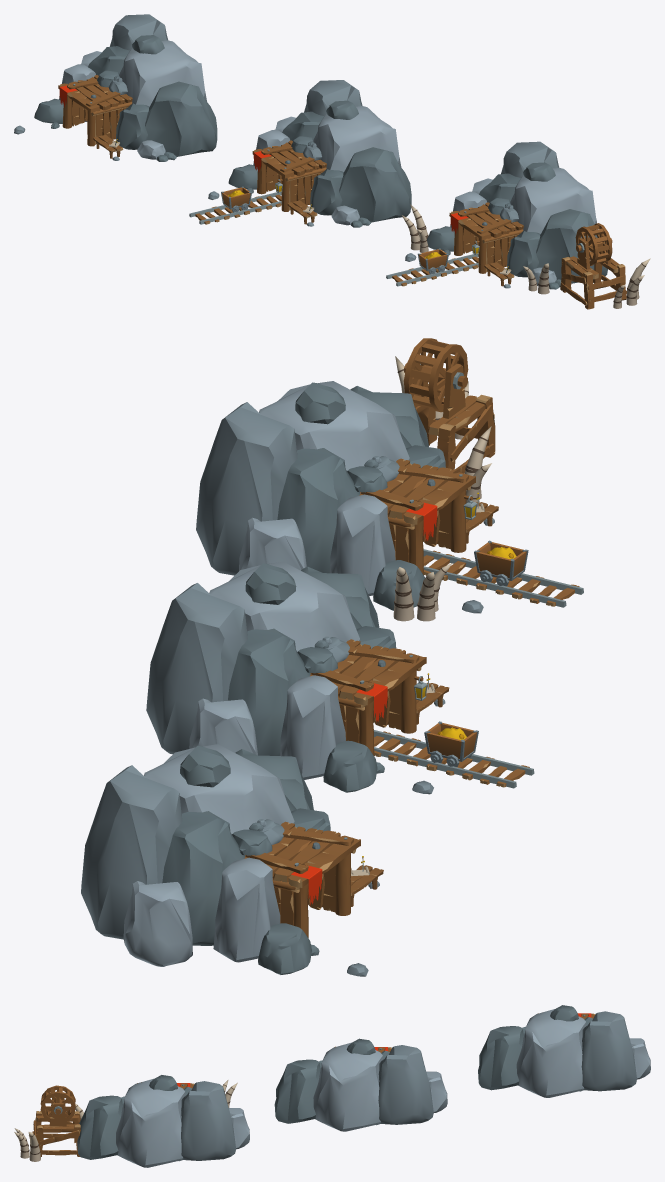
Rendered from goblins_gold_mine_game_ready.glb.
3 views of the same model, one above another, from view 1: azimuth 30°, elevation 25°; view 2: azimuth 150°, elevation 25°; view 3: azimuth 270°, elevation 25° (orthographic). The views are drawn at different scales.
Parts seen in each view (by area): view 1: gold_mine_tire_01.003, gold_mine_tire_01.002, gold_mine_tire_01, gold_mine_tire_03, gold_mine_tire_02, gold_mine_tire_02.002, gold_mine_tire_wheel, gold_mine_cart.001, gold_mine_cart; view 2: gold_mine_tire_01.003, gold_mine_tire_01.002, gold_mine_tire_01, gold_mine_tire_03, gold_mine_tire_02.002, gold_mine_tire_02, gold_mine_tire_wheel, gold_mine_cart.001, gold_mine_cart; view 3: gold_mine_tire_01.002, gold_mine_tire_01.003, gold_mine_tire_01, gold_mine_tire_03, gold_mine_tire_wheel.
Part boxes in pixels (x1=…): gold_mine_tire_01.003: x1=14, y1=14, x2=217, y2=161; gold_mine_tire_01.002: x1=208, y1=80, x2=411, y2=227; gold_mine_tire_01: x1=405, y1=141, x2=607, y2=289; gold_mine_tire_03: x1=402, y1=204, x2=650, y2=309; gold_mine_tire_02: x1=386, y1=240, x2=479, y2=286; gold_mine_tire_02.002: x1=189, y1=179, x2=282, y2=224; gold_mine_tire_wheel: x1=575, y1=223, x2=612, y2=265; gold_mine_cart.001: x1=221, y1=186, x2=251, y2=212; gold_mine_cart: x1=417, y1=248, x2=448, y2=274; gold_mine_tire_01.003: x1=81, y1=744, x2=383, y2=976; gold_mine_tire_01.002: x1=146, y1=561, x2=449, y2=794; gold_mine_tire_01: x1=196, y1=381, x2=498, y2=613; gold_mine_tire_03: x1=393, y1=356, x2=495, y2=621; gold_mine_tire_02.002: x1=373, y1=676, x2=534, y2=788; gold_mine_tire_02: x1=423, y1=495, x2=583, y2=607; gold_mine_tire_wheel: x1=403, y1=338, x2=468, y2=412; gold_mine_cart.001: x1=424, y1=721, x2=478, y2=766; gold_mine_cart: x1=474, y1=540, x2=528, y2=586; gold_mine_tire_01.002: x1=274, y1=1038, x2=447, y2=1131; gold_mine_tire_01.003: x1=478, y1=1005, x2=650, y2=1097; gold_mine_tire_01: x1=77, y1=1075, x2=249, y2=1167; gold_mine_tire_03: x1=14, y1=1080, x2=237, y2=1161; gold_mine_tire_wheel: x1=40, y1=1085, x2=75, y2=1121.
Bounding box in the file's own units: 32.07 × 8.05 × 62.2.
Materials: 1 (1 with a texture image).
